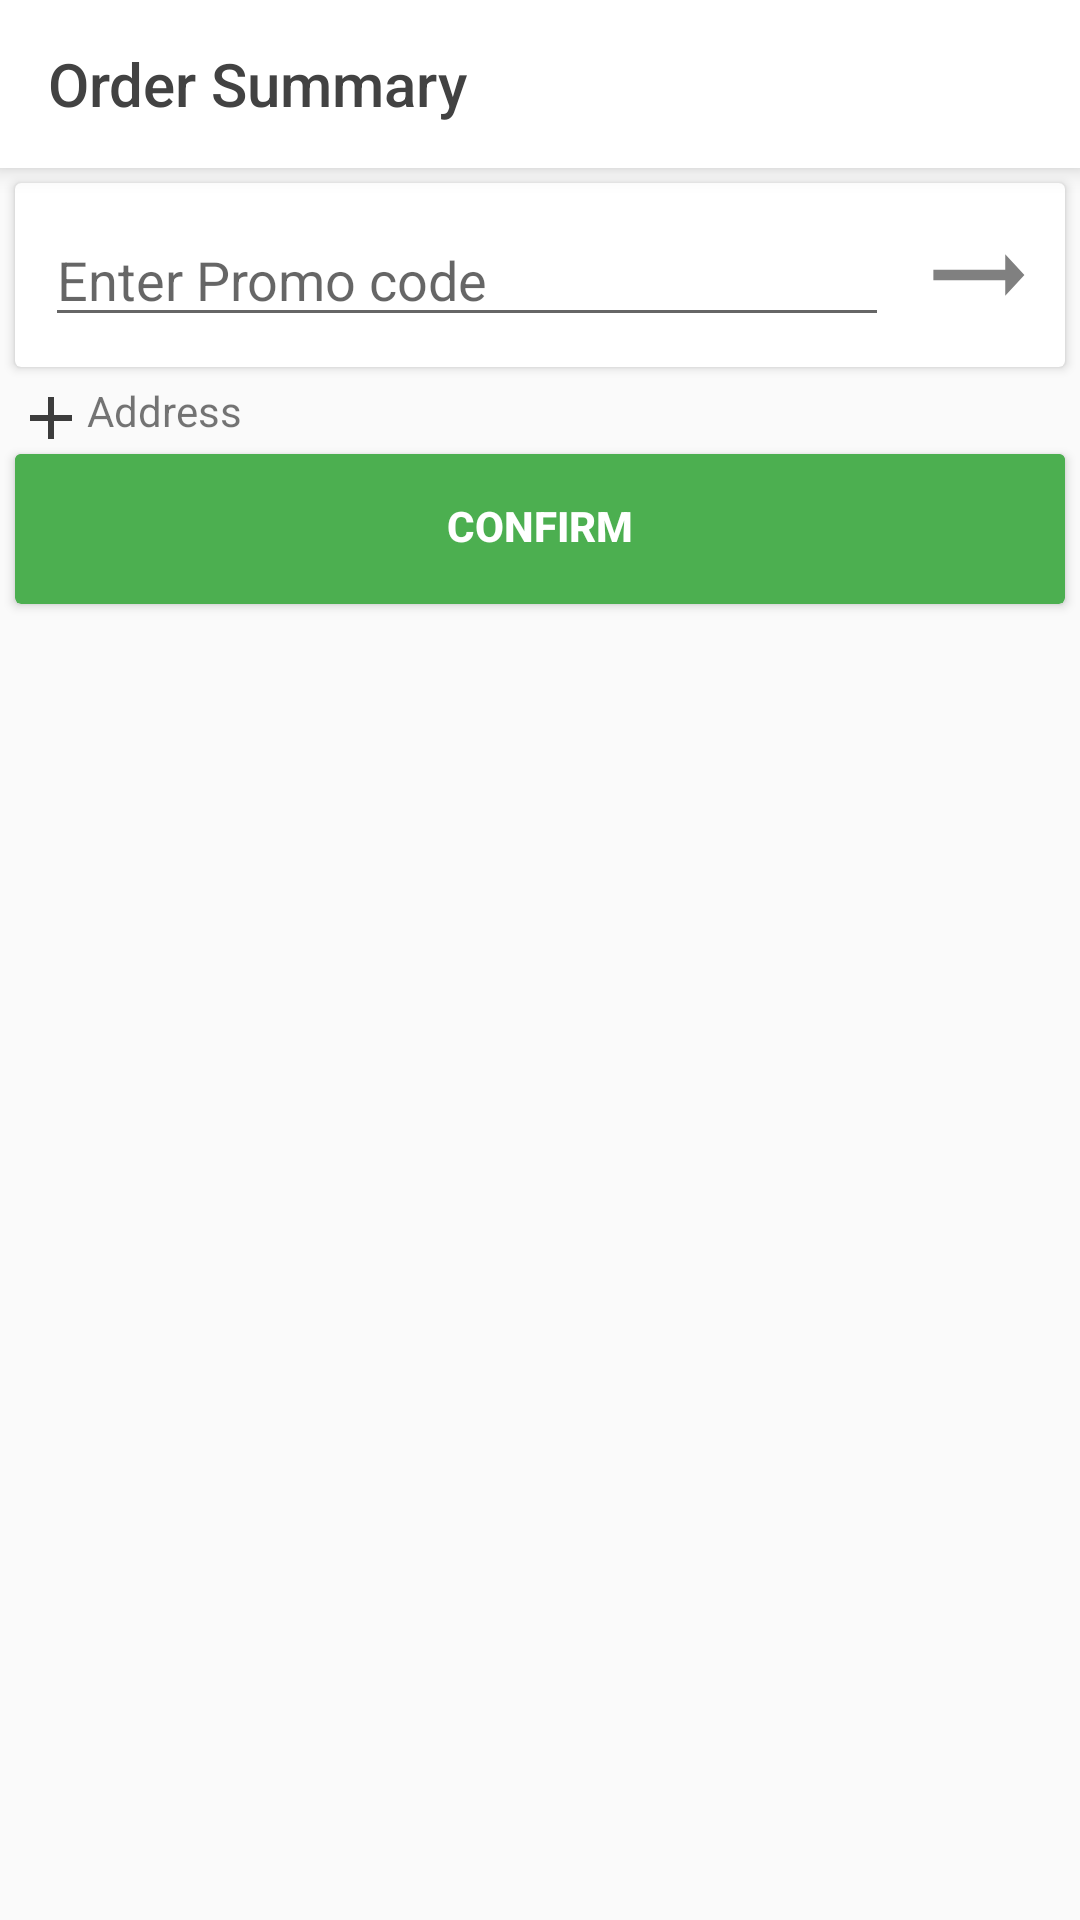

Screen size 1080px×1920px. Icon name, then its box in pixels as (x1, y1, x2, y2):
right arrow: (933, 254, 1024, 296)
